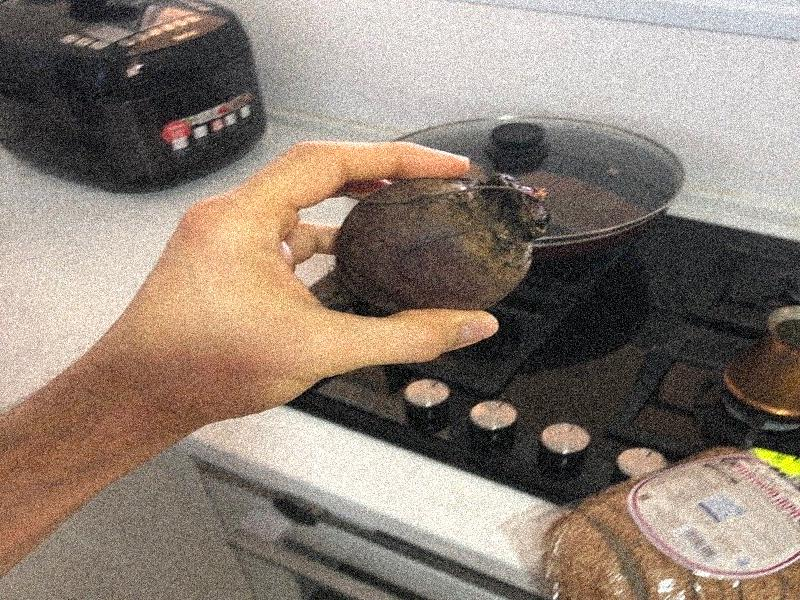Beet: (321, 176, 550, 311)
